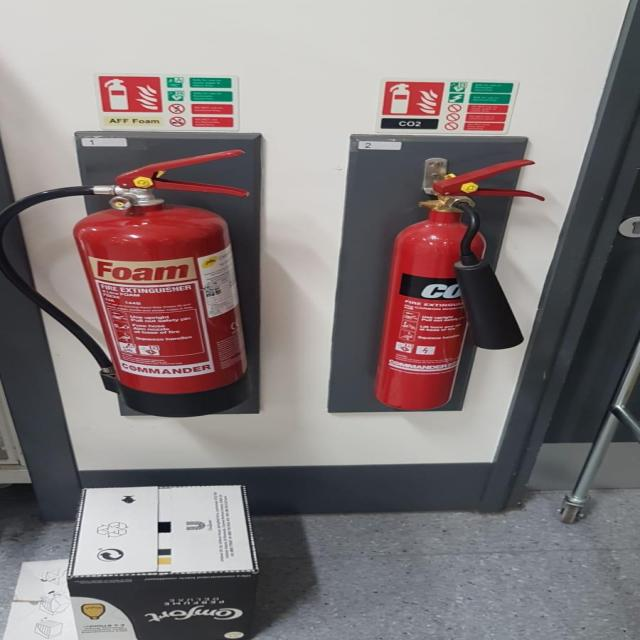fire_extinguisher: (0, 146, 260, 419), (369, 154, 556, 412)
